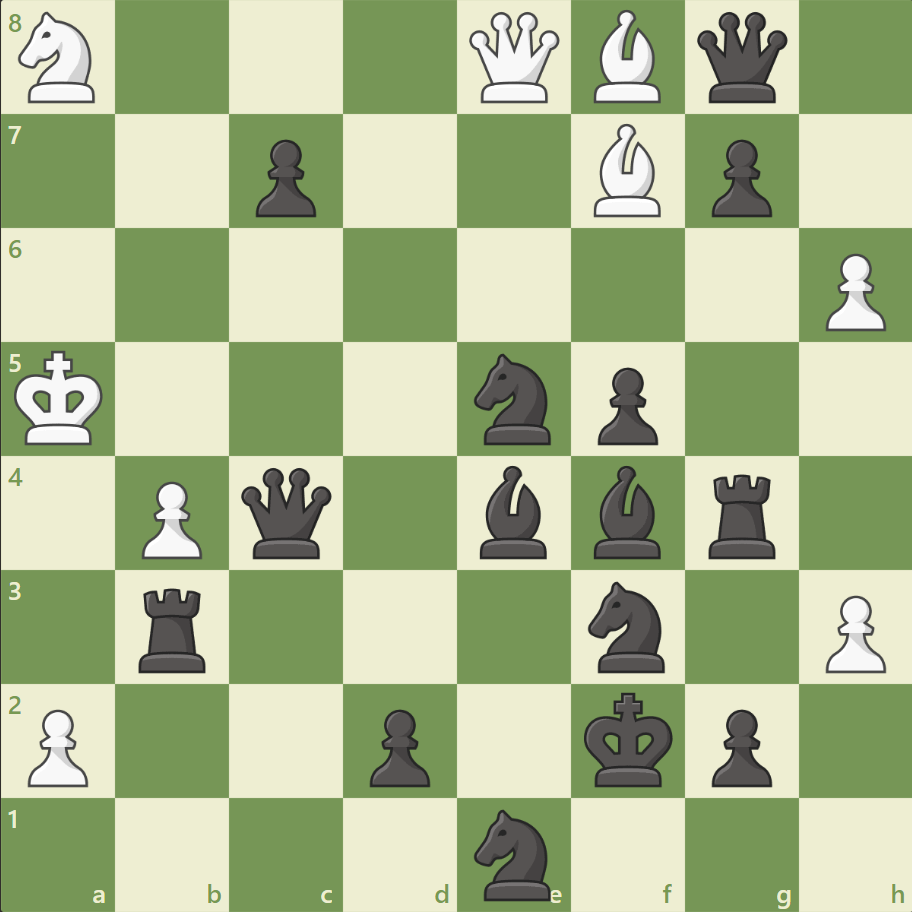B: (585, 6, 669, 109), (585, 120, 669, 222)
K: (11, 344, 111, 452)
N: (11, 7, 108, 110)
P: (133, 473, 208, 564), (20, 700, 95, 791), (815, 246, 889, 337), (815, 586, 889, 677)
Q: (464, 9, 563, 108)
b: (471, 460, 555, 563), (585, 460, 669, 563)
k: (579, 685, 679, 793)
n: (465, 348, 562, 450), (579, 575, 676, 677), (465, 802, 562, 904)
p: (247, 132, 322, 223), (701, 132, 776, 223), (701, 700, 776, 791), (588, 359, 662, 450), (361, 700, 435, 791)
q: (691, 9, 790, 108), (237, 463, 336, 562)
r: (700, 466, 783, 563), (133, 579, 215, 676)
